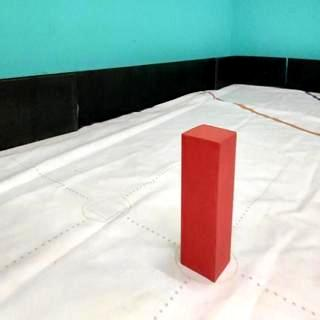redbox: (180, 123, 237, 283)
